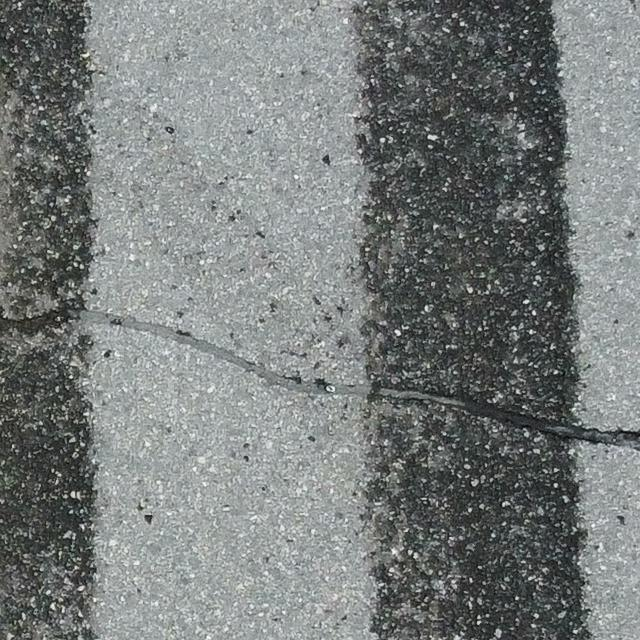TransverseCrack: (2, 310, 640, 451)
